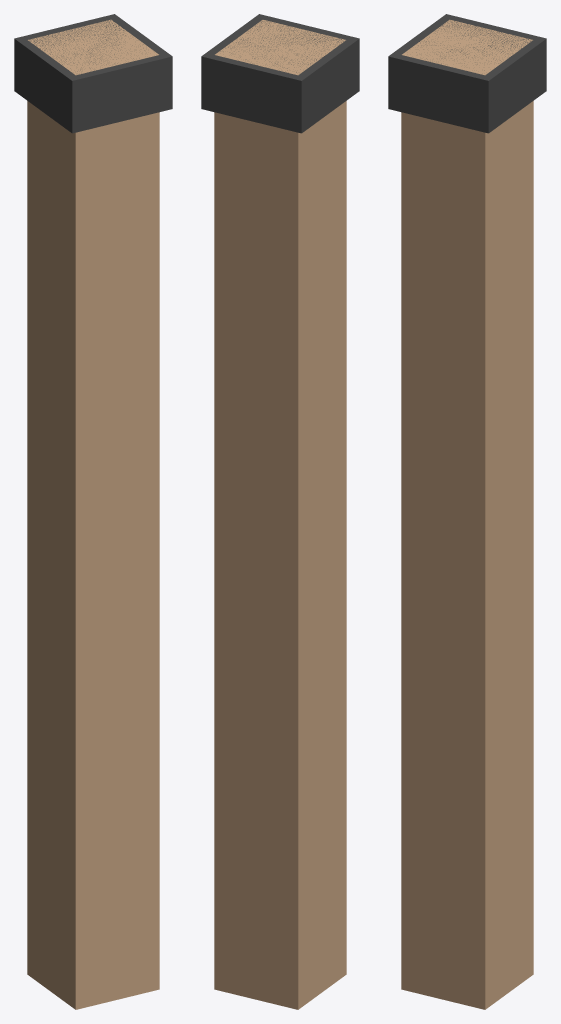
File: KIT_Corner_Warm.glb
3 renders of one model, left to right at view 1: azimuth 30°, elevation 25°; view 2: azimuth 150°, elevation 25°; view 3: azimuth 330°, elevation 25°, orthographic.
Visible parts, largest first — view 1: KIT_Corner_Warm; view 2: KIT_Corner_Warm; view 3: KIT_Corner_Warm.
Part boxes in pixels (x1=…): KIT_Corner_Warm: x1=14, y1=14, x2=172, y2=1009; KIT_Corner_Warm: x1=201, y1=14, x2=359, y2=1009; KIT_Corner_Warm: x1=388, y1=14, x2=546, y2=1009.
Size of the model in its own units: 0.36 by 3.2 by 0.36.
